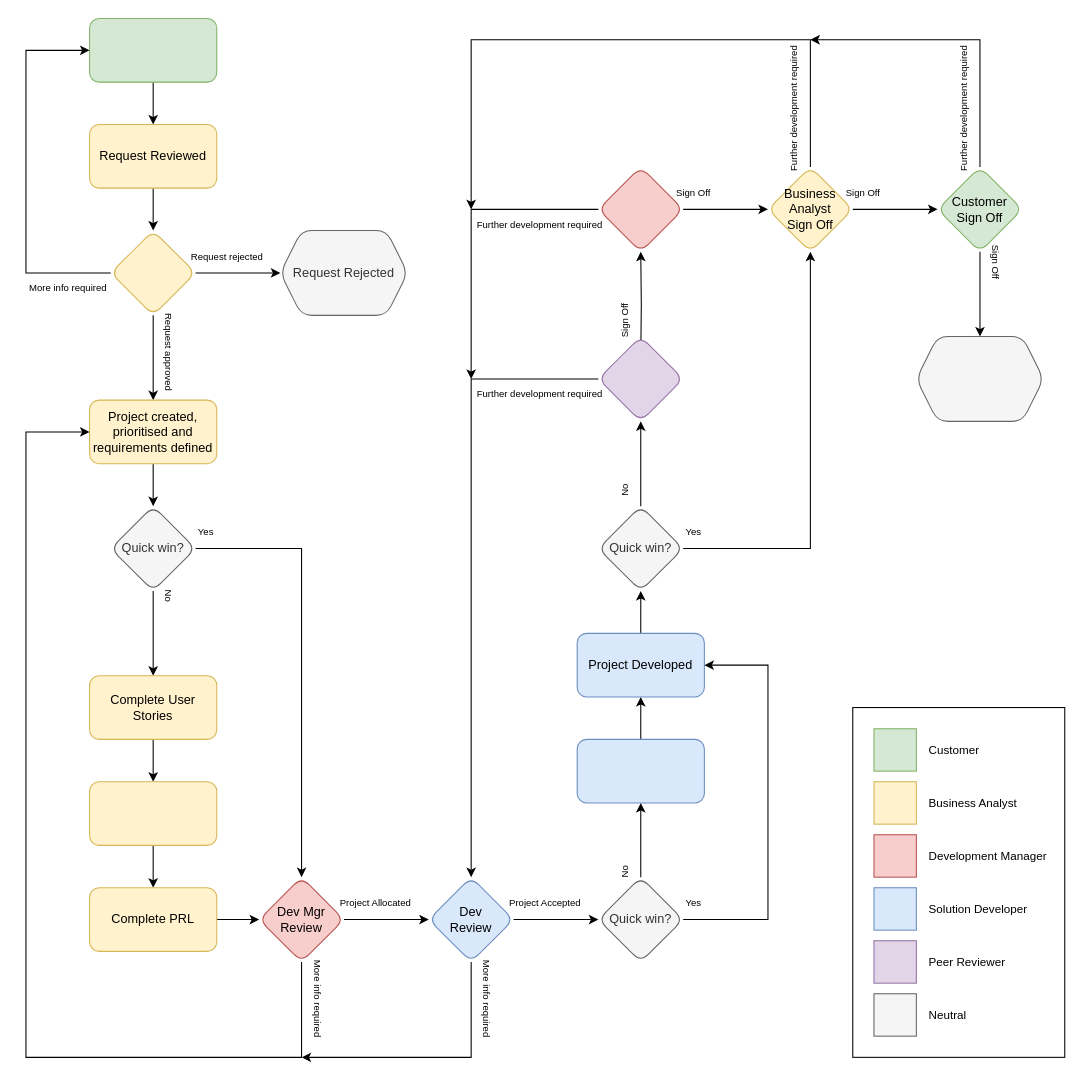
Image size: 1083x1084. Some labels were removed from this diagram. The centre of each missing label's shape, as x and y in pixels:
"Complete Wireframe" goes at (x=153, y=813).
"Customer submits requests" goes at (x=153, y=49).
"Dev Mgr Sign Off" goes at (x=640, y=209).
"Expand PRL and plan Increments and Timeboxes" goes at (x=640, y=770).
"Peer Review" goes at (x=640, y=378).
"Project Completed" goes at (x=979, y=378).
"Review" goes at (x=153, y=272).
